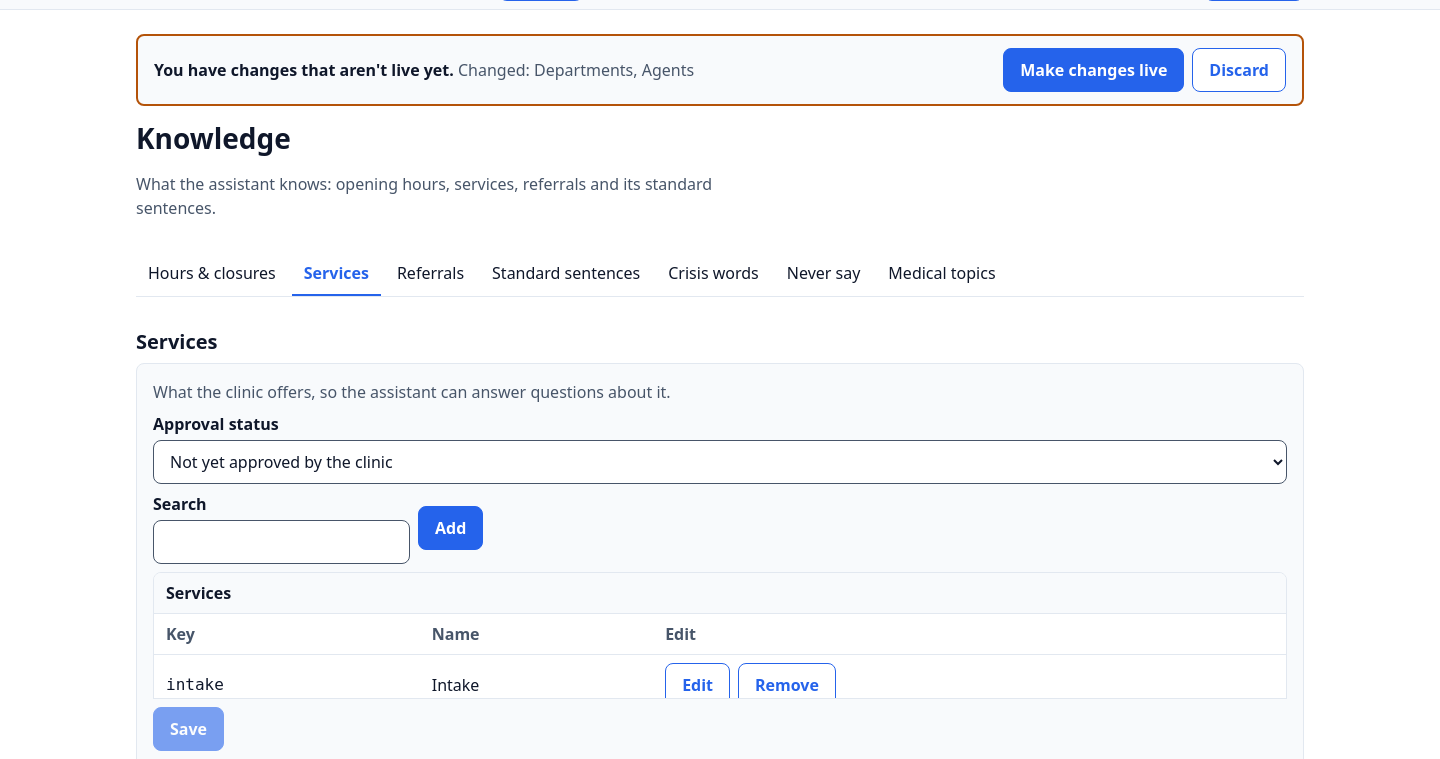
Test: xxadminformsfixxx: adding a service saves, and refusals read plainly › shows a 422 refusal per row and field in plain words, and under the field when the row is opened
Click the button with test id "services-edit-intake": coordinates (698, 685) [665, 663, 730, 707]
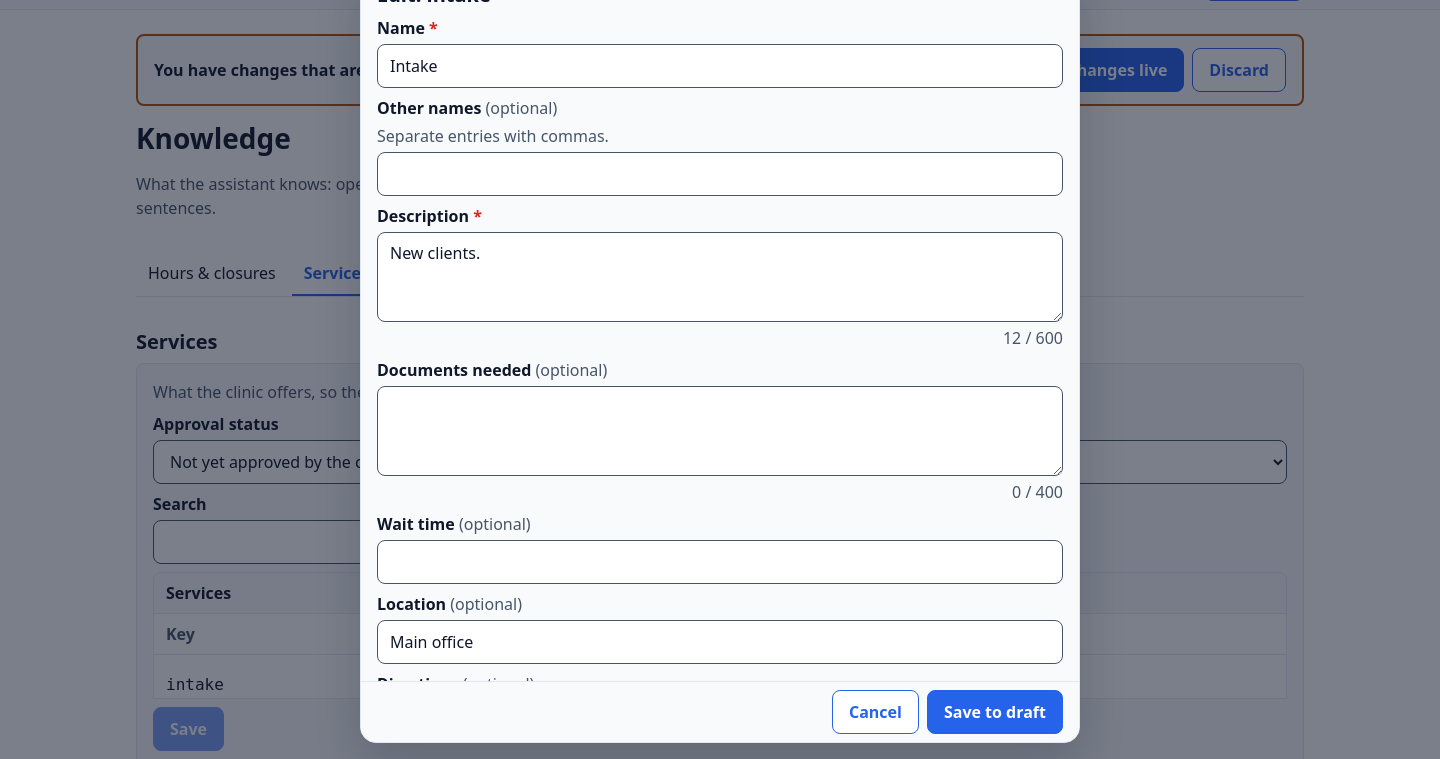
In the field with test id "services-dialog-name": coordinates (720, 66) [377, 44, 1063, 88], type " 2"
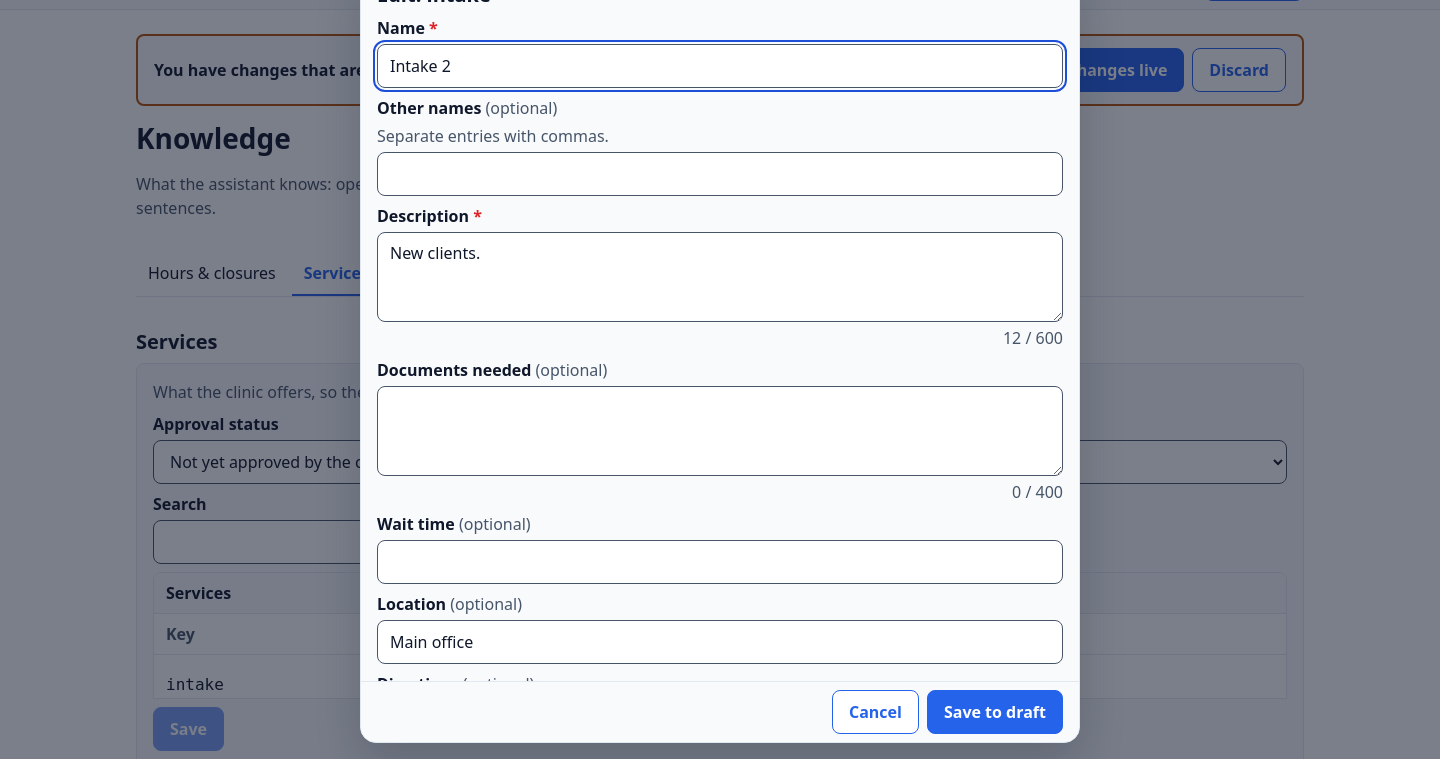
Click the button with test id "services-dialog-confirm": coordinates (995, 712) [927, 690, 1063, 734]
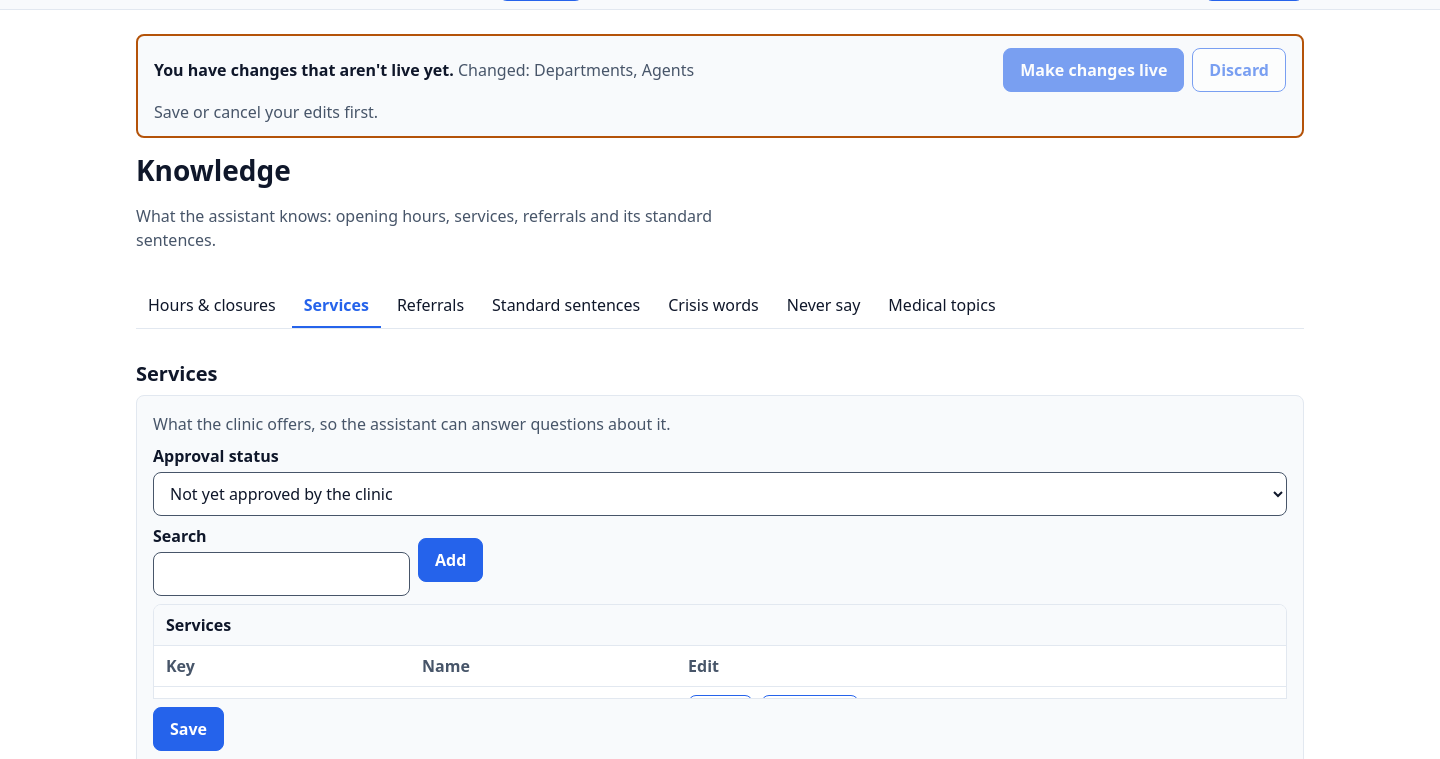
Click the button with test id "knowledge-services-save": coordinates (188, 729) [153, 707, 224, 751]
(page scrolled)
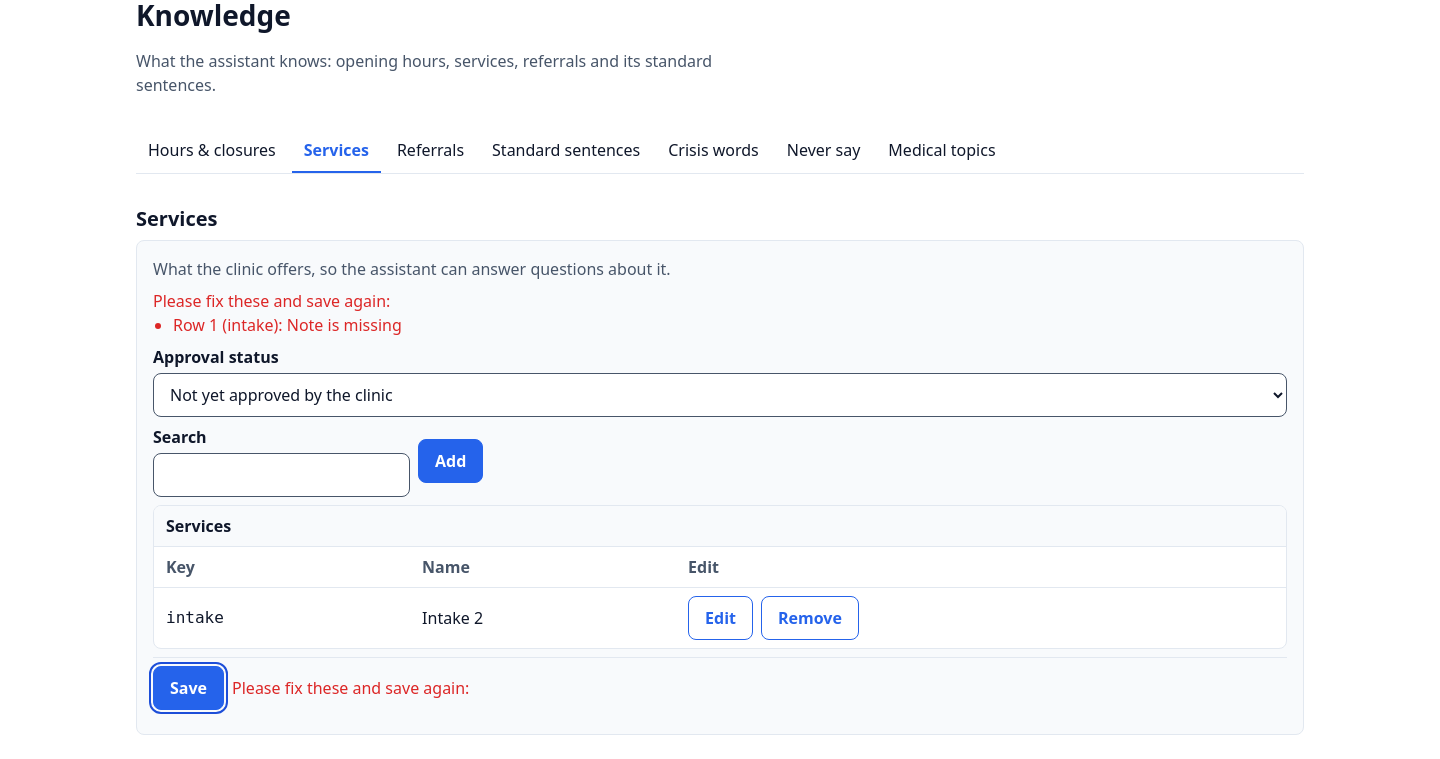
Expected: the message with test id "knowledge-services-problems" does not show "services.0.source", [153, 290, 402, 336]
Now the message with test id "knowledge-services-problems" shows "Row 1 (intake): Note is missing", box [173, 314, 402, 336]
Click the button with test id "services-edit-intake": coordinates (721, 618) [688, 596, 753, 640]
(page scrolled)
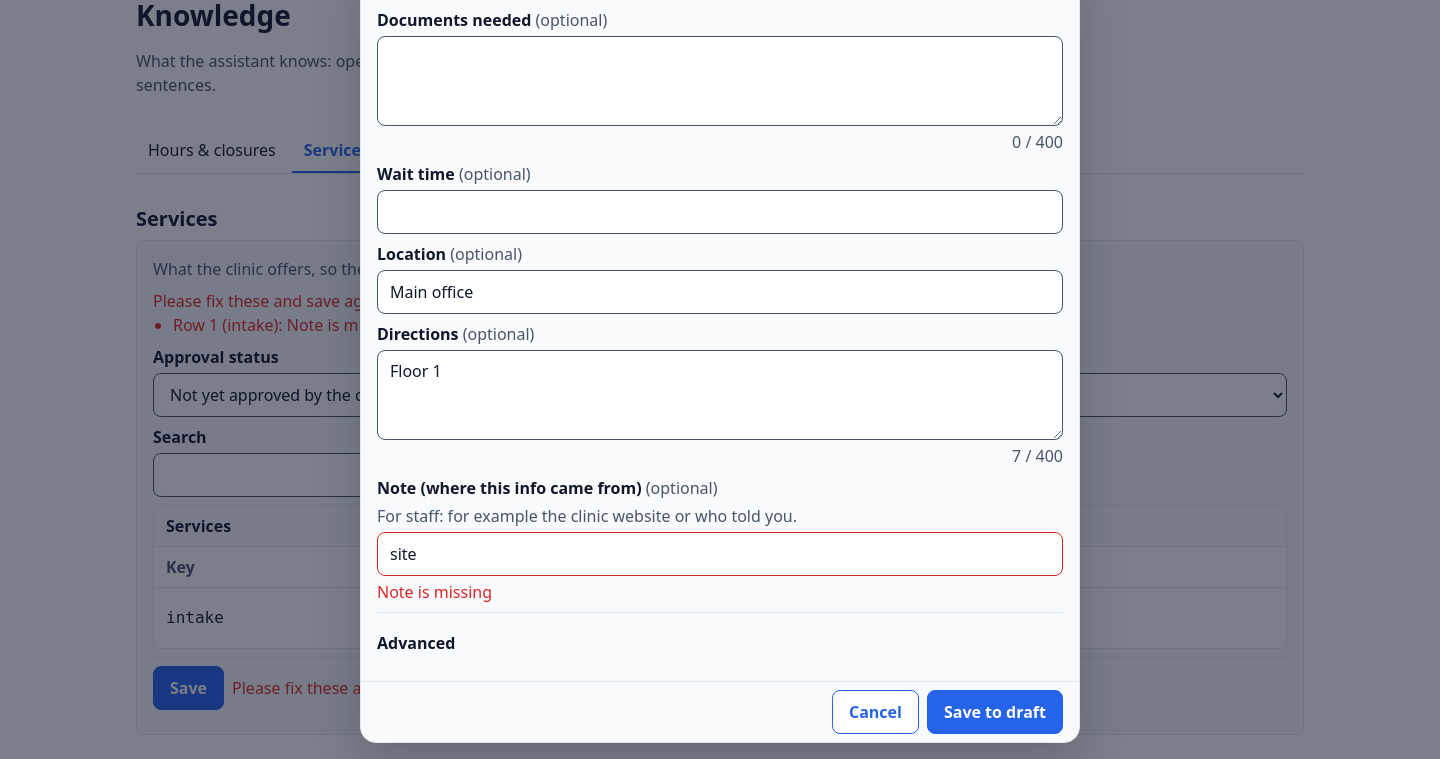
Now the element with test id "services-dialog-source" shows "Note is missing", box [377, 581, 492, 603]
